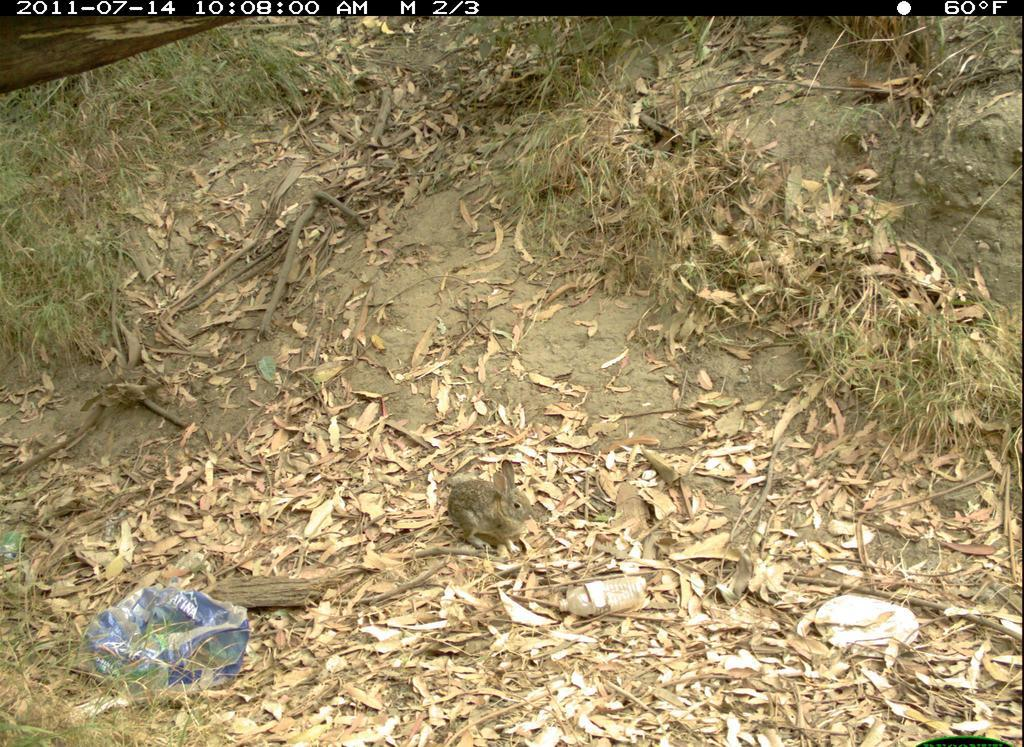rabbit: (425, 449, 552, 565)
